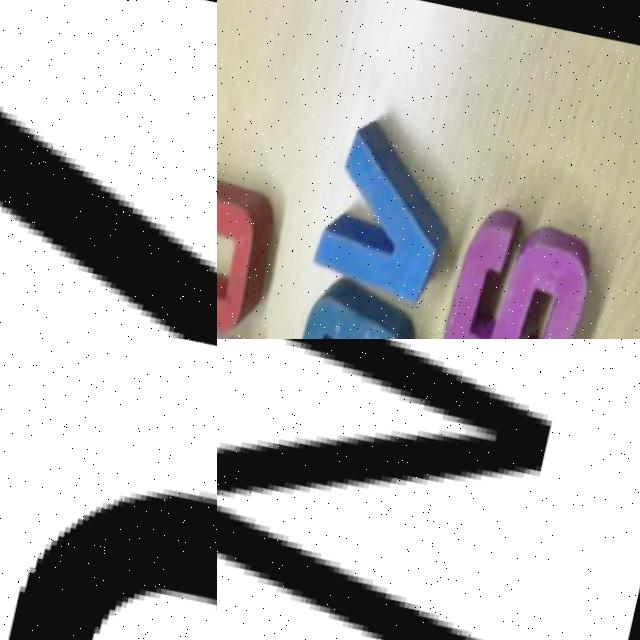5: (0, 419, 217, 640)
D: (267, 263, 435, 339)
O: (217, 167, 296, 339)
S: (428, 198, 606, 339)
V: (0, 62, 217, 339), (301, 108, 475, 327)
W: (217, 339, 582, 640)
